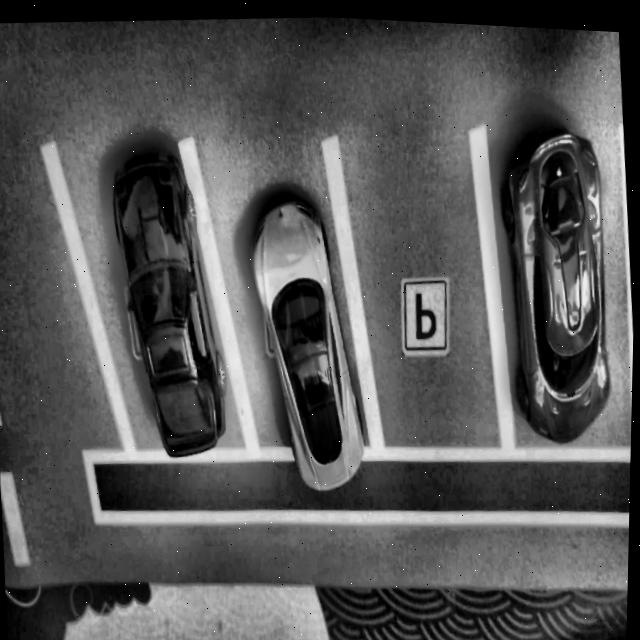car: (104, 140, 238, 460), (493, 118, 620, 441), (243, 188, 374, 492)
